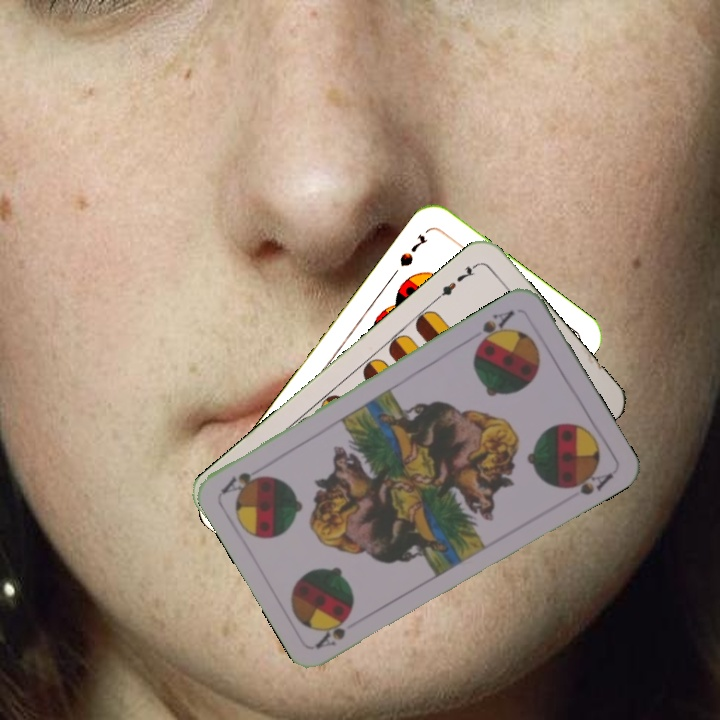E7: (432, 259, 481, 303)
S7: (395, 229, 431, 270)
SA: (472, 306, 517, 350), (312, 612, 353, 651)
